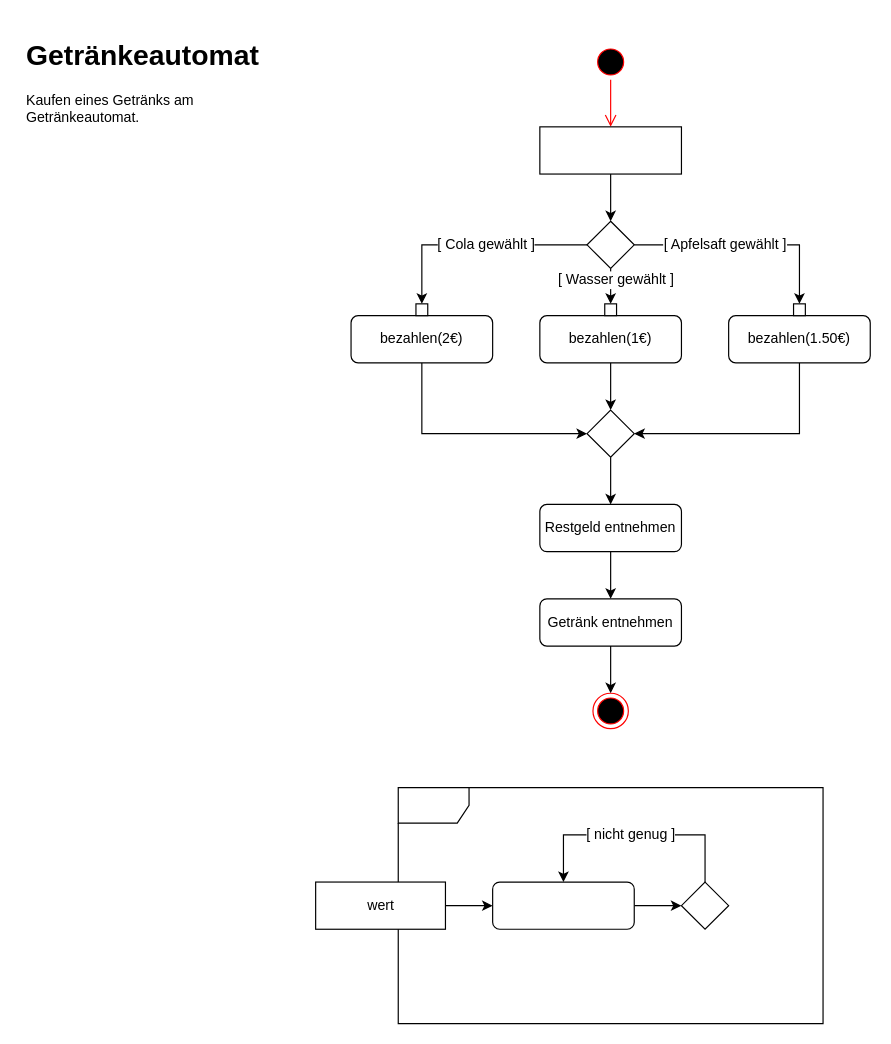
Some shapes in this 891 by 1044 pixel diagram are drawn without their labels. Here are the shapes that lost their labels. From the top down, the box of each, then its label:
(539, 126, 681, 174): Getränk auswählen
(491, 881, 634, 929): Geld einwerfen
(397, 786, 823, 1024): bezahlen
